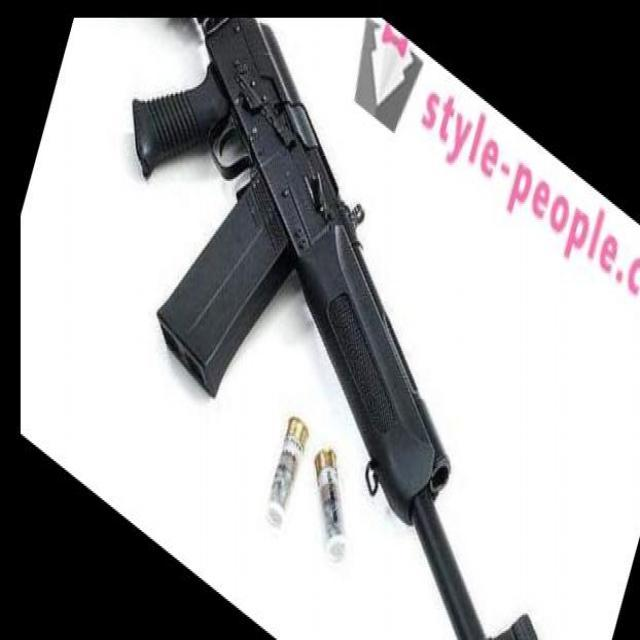weapon: (131, 17, 538, 640)
